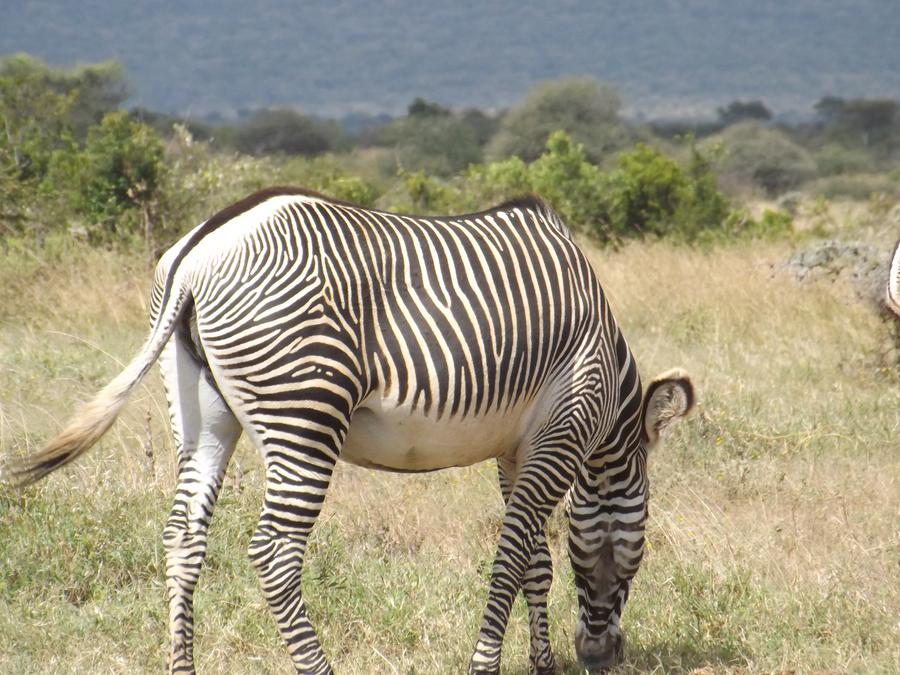zebra_grevys: (149, 175, 580, 471)
